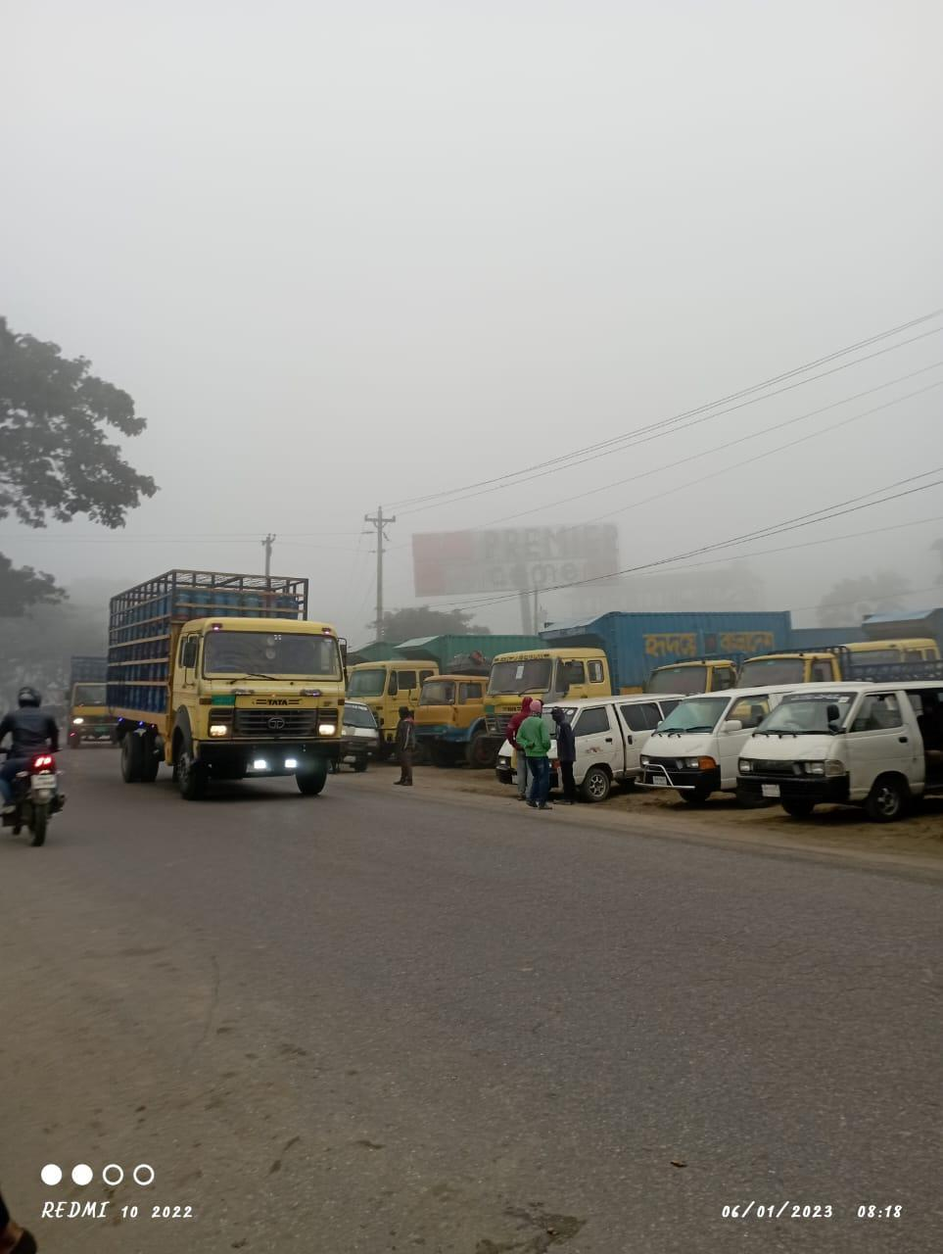Bike: (6, 686, 76, 847)
Car: (732, 674, 943, 832), (497, 679, 658, 799), (638, 687, 745, 810)
Truck: (107, 561, 356, 804), (478, 604, 781, 695), (409, 665, 486, 768), (64, 639, 114, 767)
